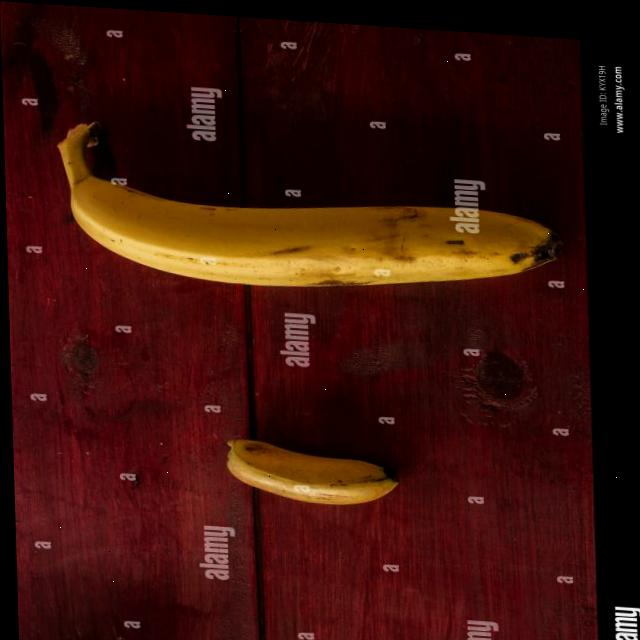banana: (44, 112, 573, 316), (220, 421, 407, 512)
